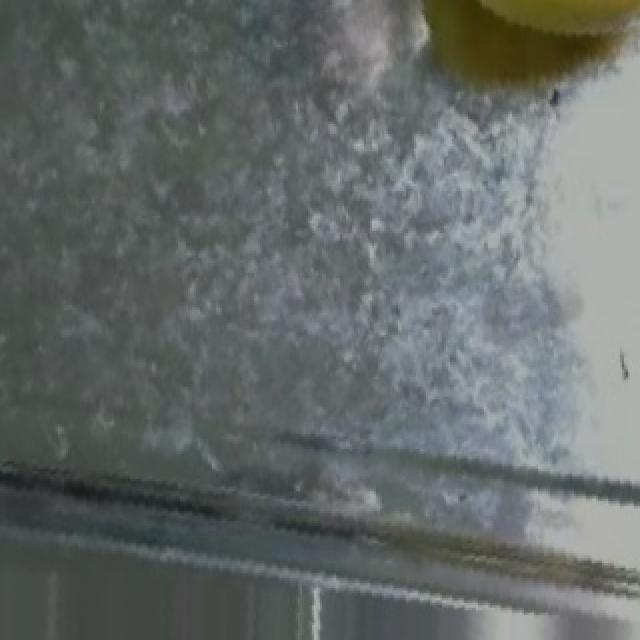fruit: (406, 0, 640, 82)
